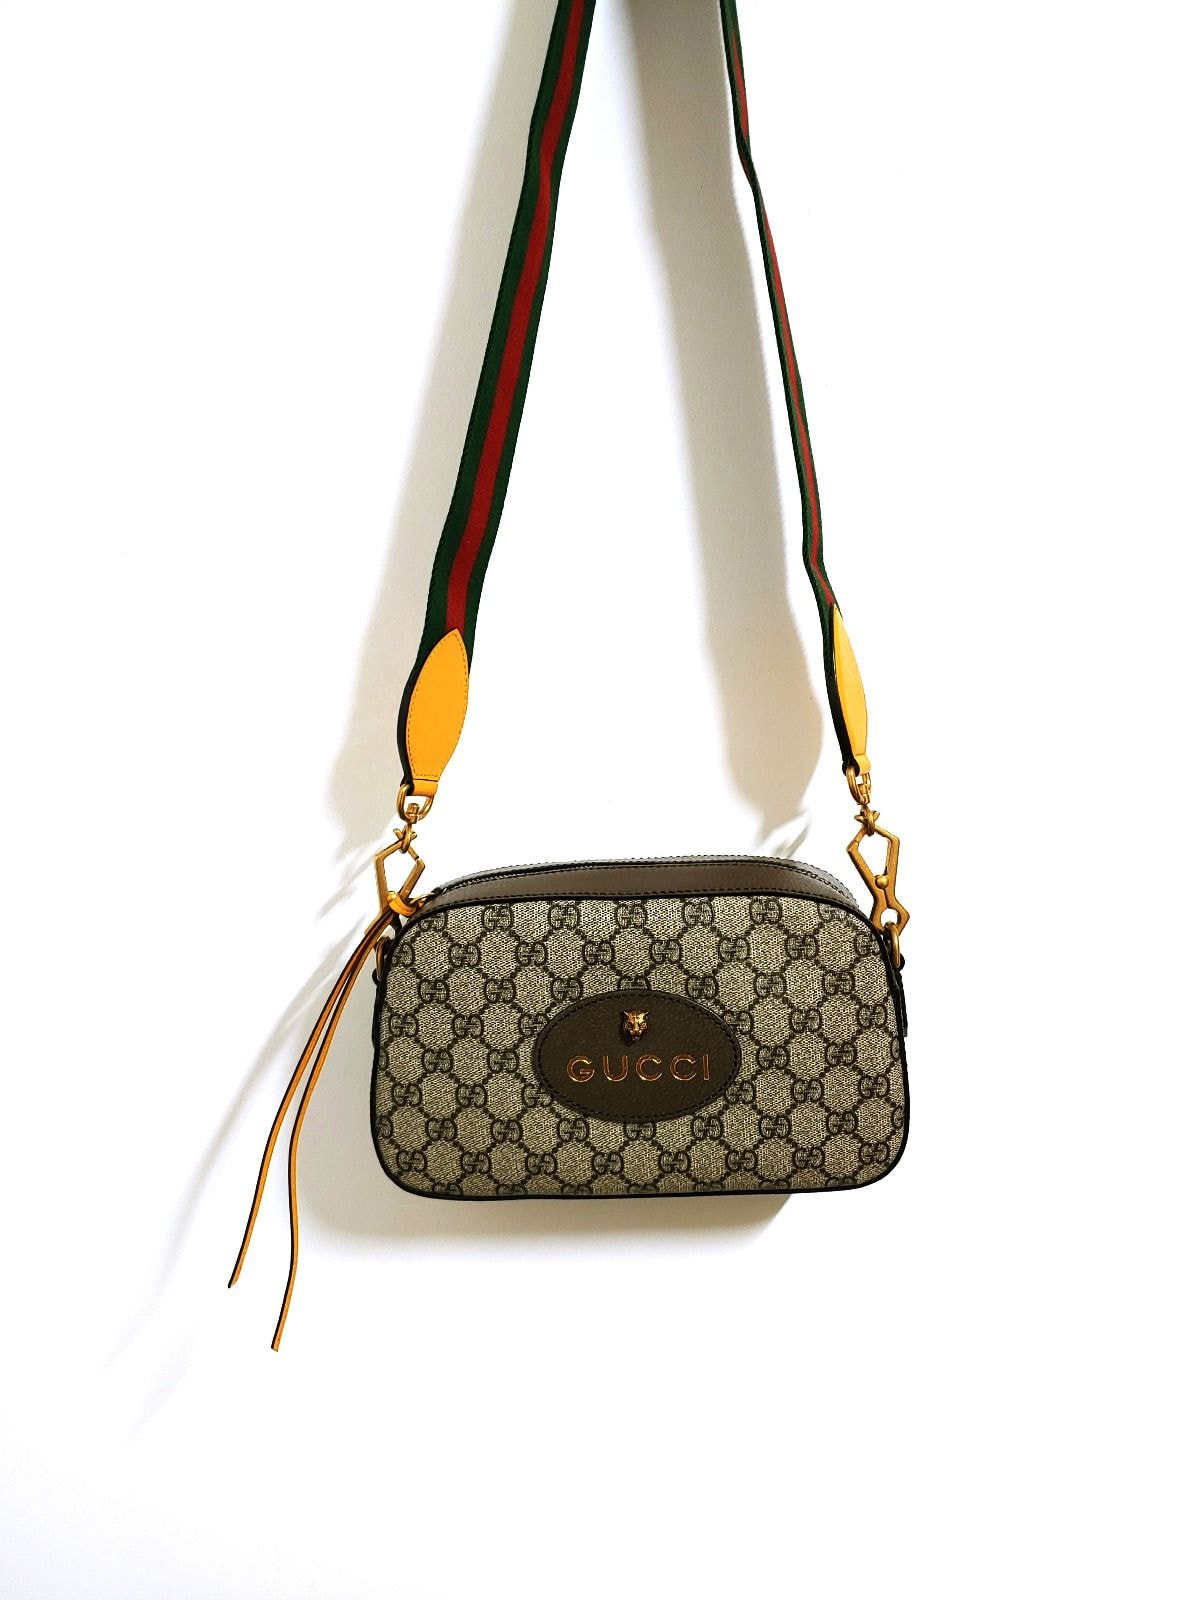Gucci: (373, 820, 979, 1251), (431, 43, 613, 631), (533, 988, 726, 1129)
